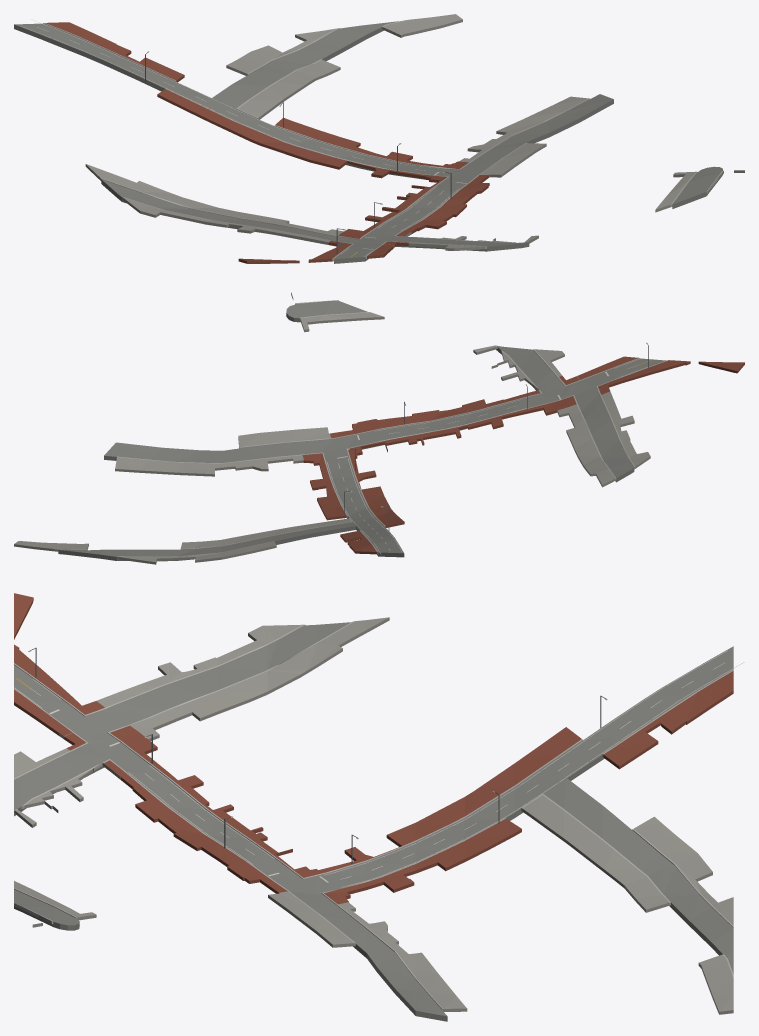
3 views of the same model, one above another, from view 1: azimuth 30°, elevation 25°; view 2: azimuth 150°, elevation 25°; view 3: azimuth 270°, elevation 25° (orthographic). The views are drawn at different scales.
Size of the model in its own units: 147 by 28.84 by 148.
